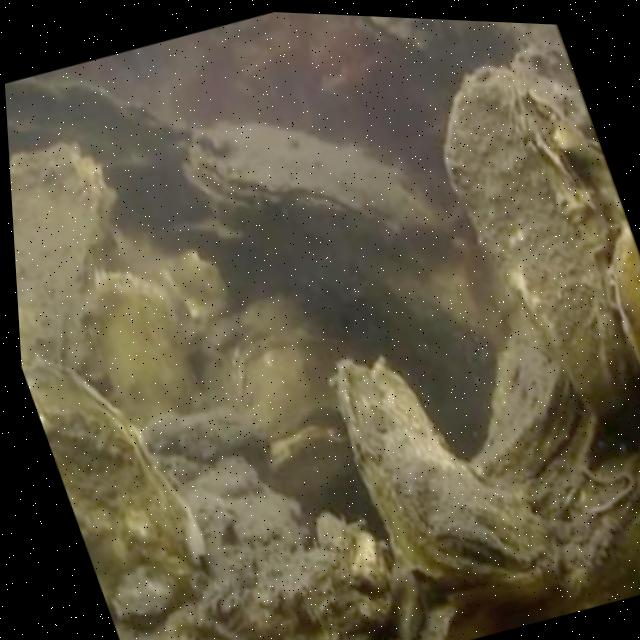Oyster-Closed: (22, 361, 202, 609), (9, 142, 116, 367)
Oyster-Indeterminate: (448, 66, 639, 418), (338, 360, 555, 584), (185, 119, 434, 254), (473, 321, 579, 486), (97, 270, 194, 426), (237, 332, 342, 439), (262, 423, 358, 499), (611, 222, 640, 361)
